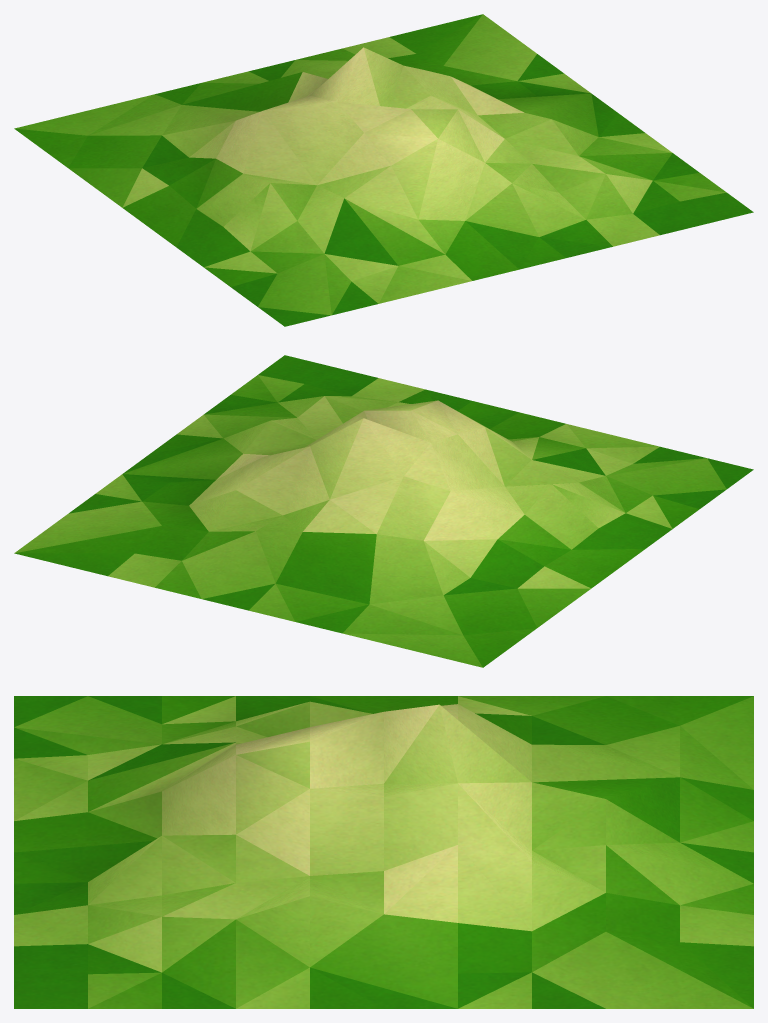
File: Terrain-part-16.fbx
3 views of the same model, one above another, from view 1: azimuth 30°, elevation 25°; view 2: azimuth 150°, elevation 25°; view 3: azimuth 270°, elevation 25° (orthographic). The views are drawn at different scales.
Parts seen in each view (by area): view 1: Terrain-part-16; view 2: Terrain-part-16; view 3: Terrain-part-16.
Boxes of the visible parts, <box> form: Terrain-part-16: <box>14,14,753,326</box>; Terrain-part-16: <box>14,355,753,667</box>; Terrain-part-16: <box>14,696,753,1008</box>.
Size of the model in its own units: 6 by 1.32 by 6.
